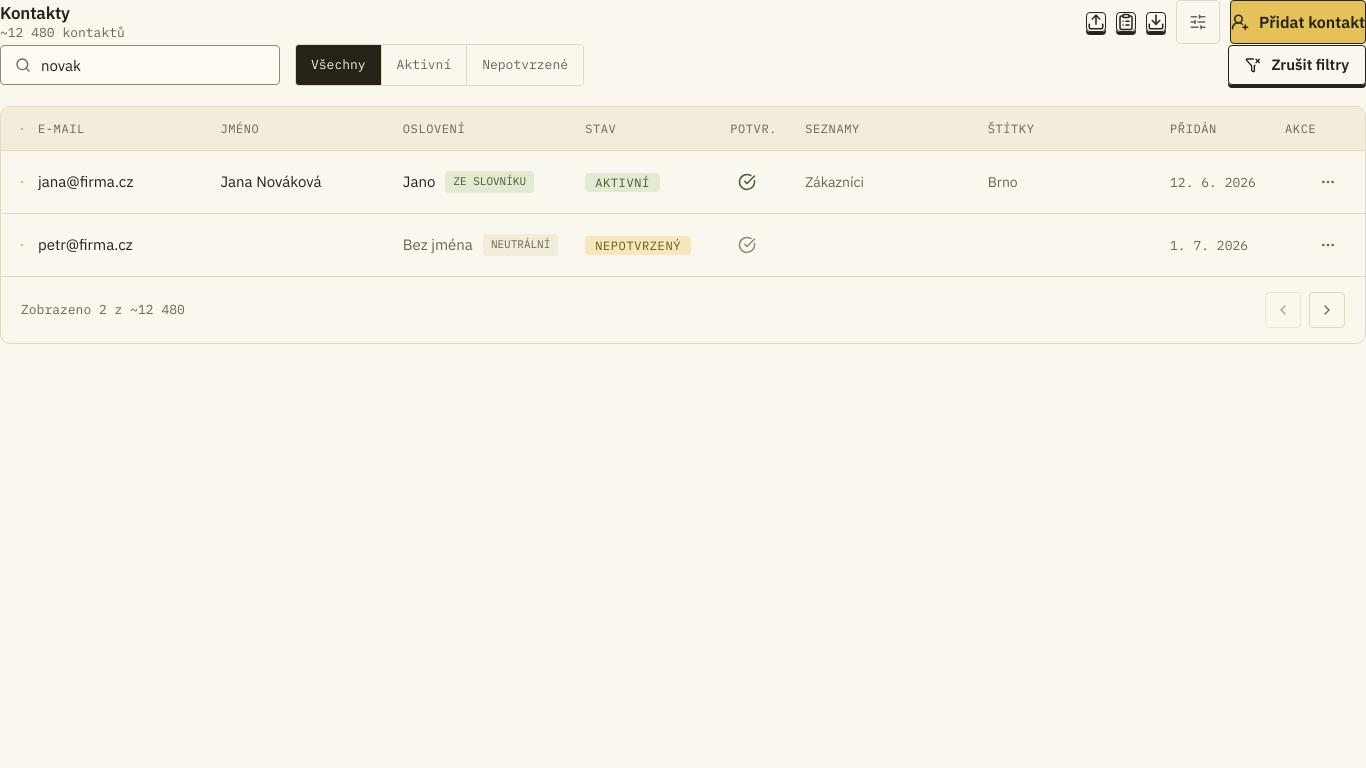
Test: ContactsTable: potvrzení v řádku › export podle hledaného výrazu se neposílá a řekne se proč
Click the button named "Exportovat". click: [1156, 22]
box: [1146,12,1166,32]
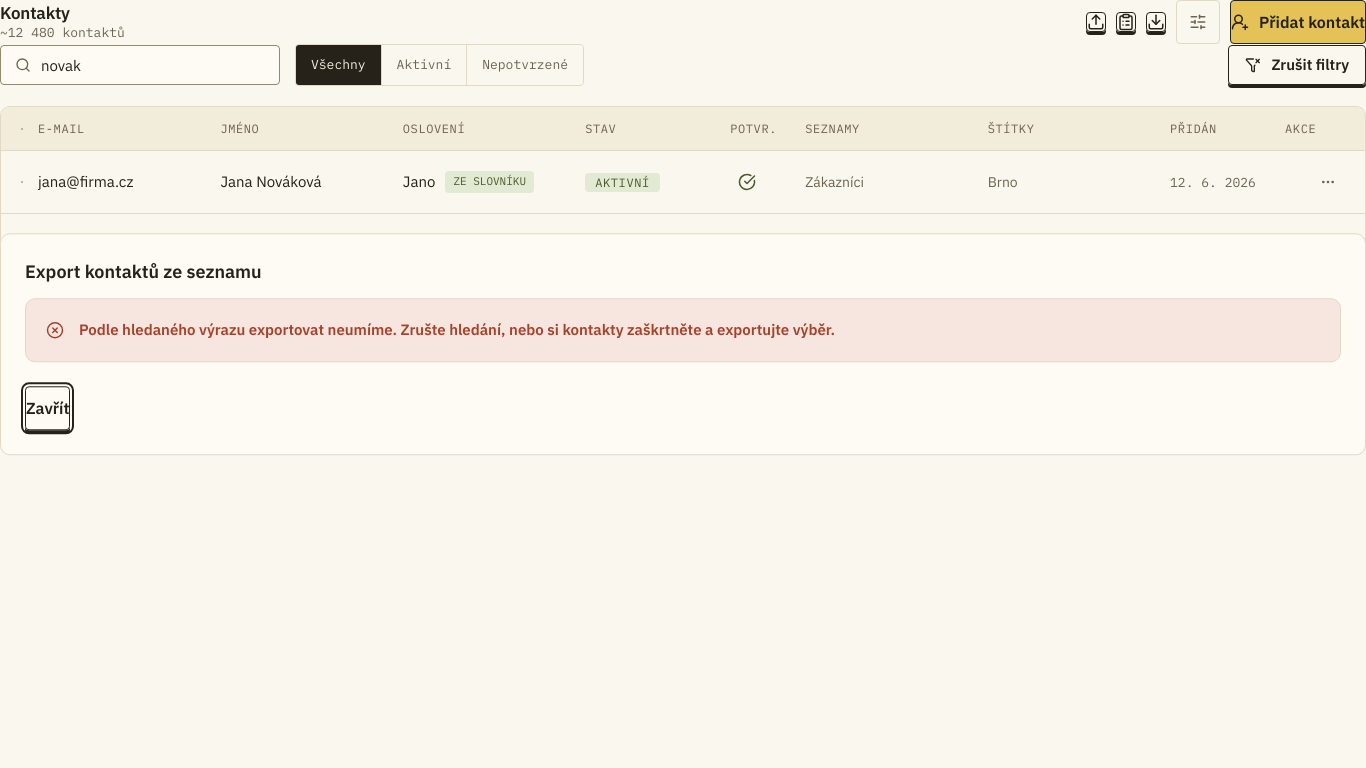
Expected: the text "Podle hledaného výrazu exportovat neumíme" is shown, [79,320,835,340]
